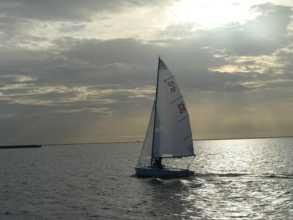fanchuan: (132, 56, 205, 181)
